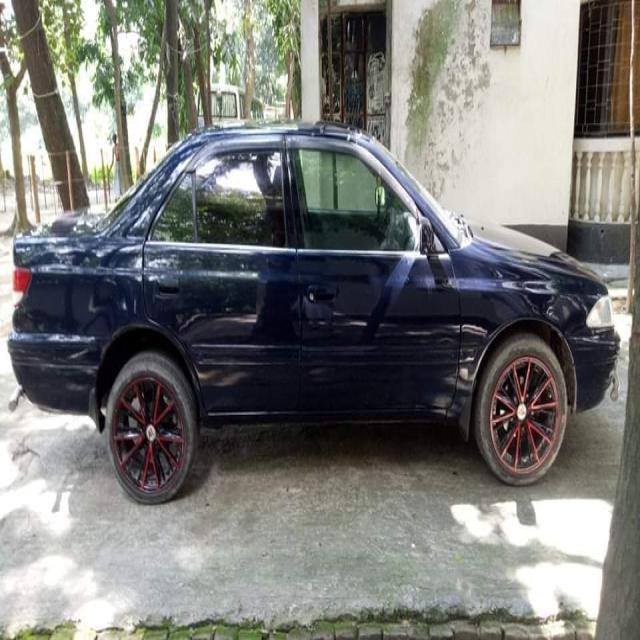blue: (7, 124, 640, 485)
